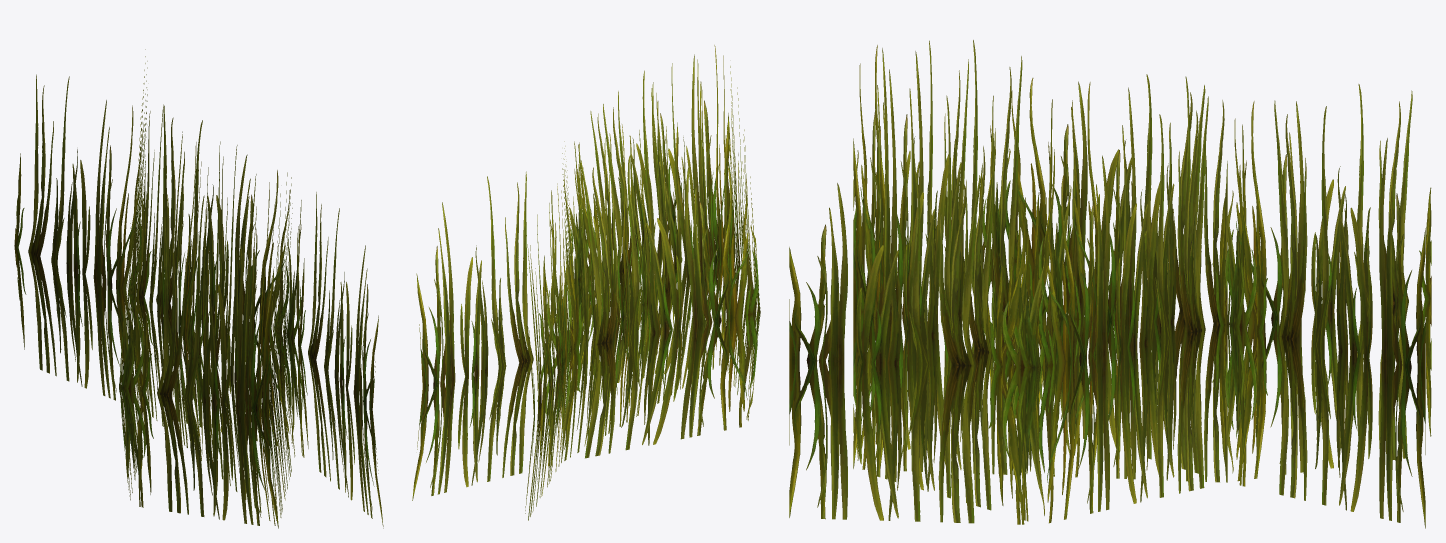
File: lochtallgrass07.obj
3 views of the same model, side by side, from view 1: azimuth 30°, elevation 25°; view 2: azimuth 150°, elevation 25°; view 3: azimuth 270°, elevation 25° (orthographic). The views are drawn at different scales.
Parts seen in each view (by area): view 1: lochtallgrass07; view 2: lochtallgrass07; view 3: lochtallgrass07.
Part boxes in pixels (box(x1,y1,x2,y2)): lochtallgrass07: box(14, 49, 383, 528); lochtallgrass07: box(412, 45, 760, 520); lochtallgrass07: box(789, 40, 1431, 528).
Bounding box in the file's own units: 4.86 × 8.66 × 11.05.
1 material, 1 textured.
